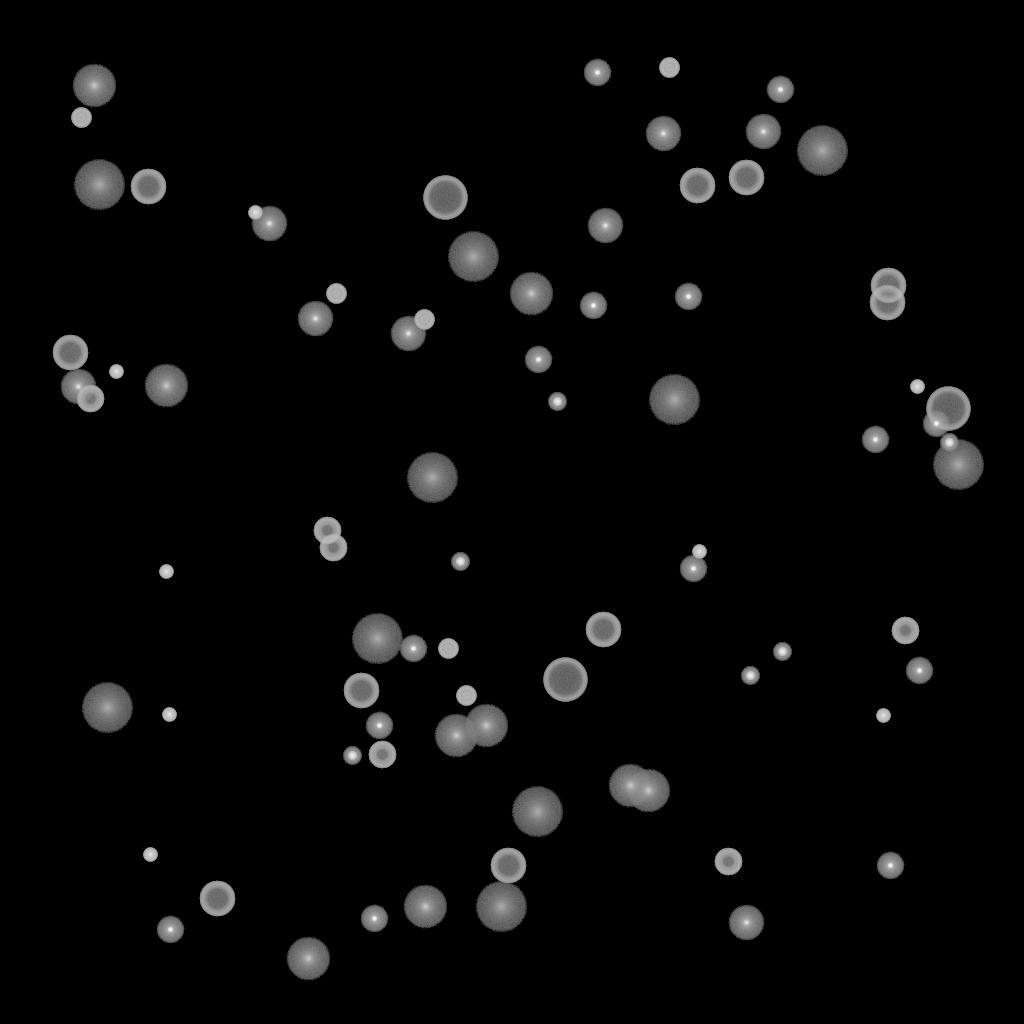depth:-10: (861, 426, 889, 454), (365, 712, 393, 740), (679, 555, 707, 583), (922, 410, 950, 438), (905, 657, 933, 685), (156, 916, 184, 944), (524, 346, 552, 374), (674, 283, 702, 311), (583, 59, 611, 87), (360, 905, 388, 933), (399, 635, 427, 663), (579, 292, 607, 320), (876, 852, 904, 880), (766, 76, 794, 104)
depth:-20: (451, 553, 469, 571), (741, 667, 759, 685), (548, 393, 566, 411), (773, 643, 791, 661), (940, 434, 958, 452), (343, 747, 361, 765)
depth:-30: (143, 848, 157, 862), (692, 545, 706, 559), (876, 709, 890, 723), (910, 380, 924, 394), (109, 365, 123, 379), (162, 708, 176, 722), (248, 206, 262, 220), (159, 565, 173, 579)
depth:-40: (414, 310, 434, 330), (456, 686, 476, 706), (71, 108, 91, 128), (659, 58, 679, 78), (326, 284, 346, 304), (438, 639, 458, 659)
depth:-50: (368, 741, 396, 769), (313, 517, 341, 545), (891, 617, 919, 645), (319, 534, 347, 562), (76, 385, 104, 413), (714, 848, 742, 876)
depth:-60: (490, 848, 526, 884), (728, 160, 764, 196), (870, 268, 906, 304), (869, 285, 905, 321), (52, 335, 88, 371), (343, 673, 379, 709), (130, 169, 166, 205), (679, 168, 715, 204), (199, 881, 235, 917), (585, 612, 621, 648)
depth:-70: (926, 387, 970, 431), (423, 176, 467, 220), (543, 658, 587, 702)
depth:0: (728, 905, 764, 941), (745, 114, 781, 150), (587, 208, 623, 244), (251, 206, 287, 242), (645, 116, 681, 152), (60, 369, 96, 405), (390, 316, 426, 352), (297, 301, 333, 337)
depth:10: (144, 364, 188, 408), (509, 272, 553, 316), (626, 769, 670, 813), (608, 764, 652, 808), (403, 885, 447, 929), (72, 64, 116, 108), (286, 937, 330, 981), (434, 714, 478, 758), (464, 704, 508, 748)
depth:20: (475, 882, 527, 932), (932, 440, 984, 490), (796, 126, 848, 176), (406, 453, 458, 503), (351, 614, 403, 664), (447, 232, 499, 282), (511, 787, 563, 837), (648, 375, 700, 425), (81, 683, 133, 733), (73, 160, 125, 210)
